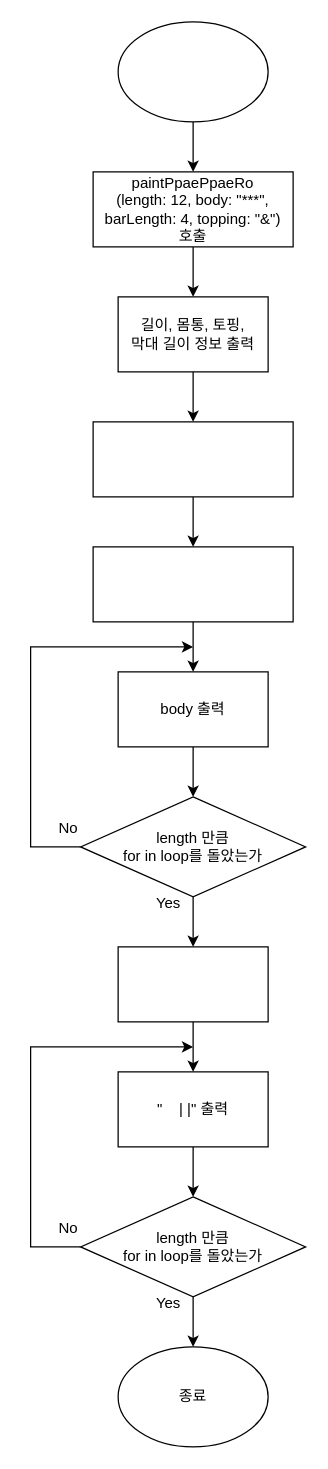
The diagram is 328 pixels wide and 1469 high, and some of its shapes have lost their labels. The shapes that lost their labels are listed below. From the top down, each one's centre as x and y in pixels, then its label:
At (192,71): "시작".
At (192,459): "combineToppingAndBody (topping:topping, body:body) 호출하여 토핑과 몸통 조합".
At (192,584): "paintBody (toppedBody: toppedBody, length: length) 호출".
At (192,984): "paintBar (barLength: barLength) 호출".
